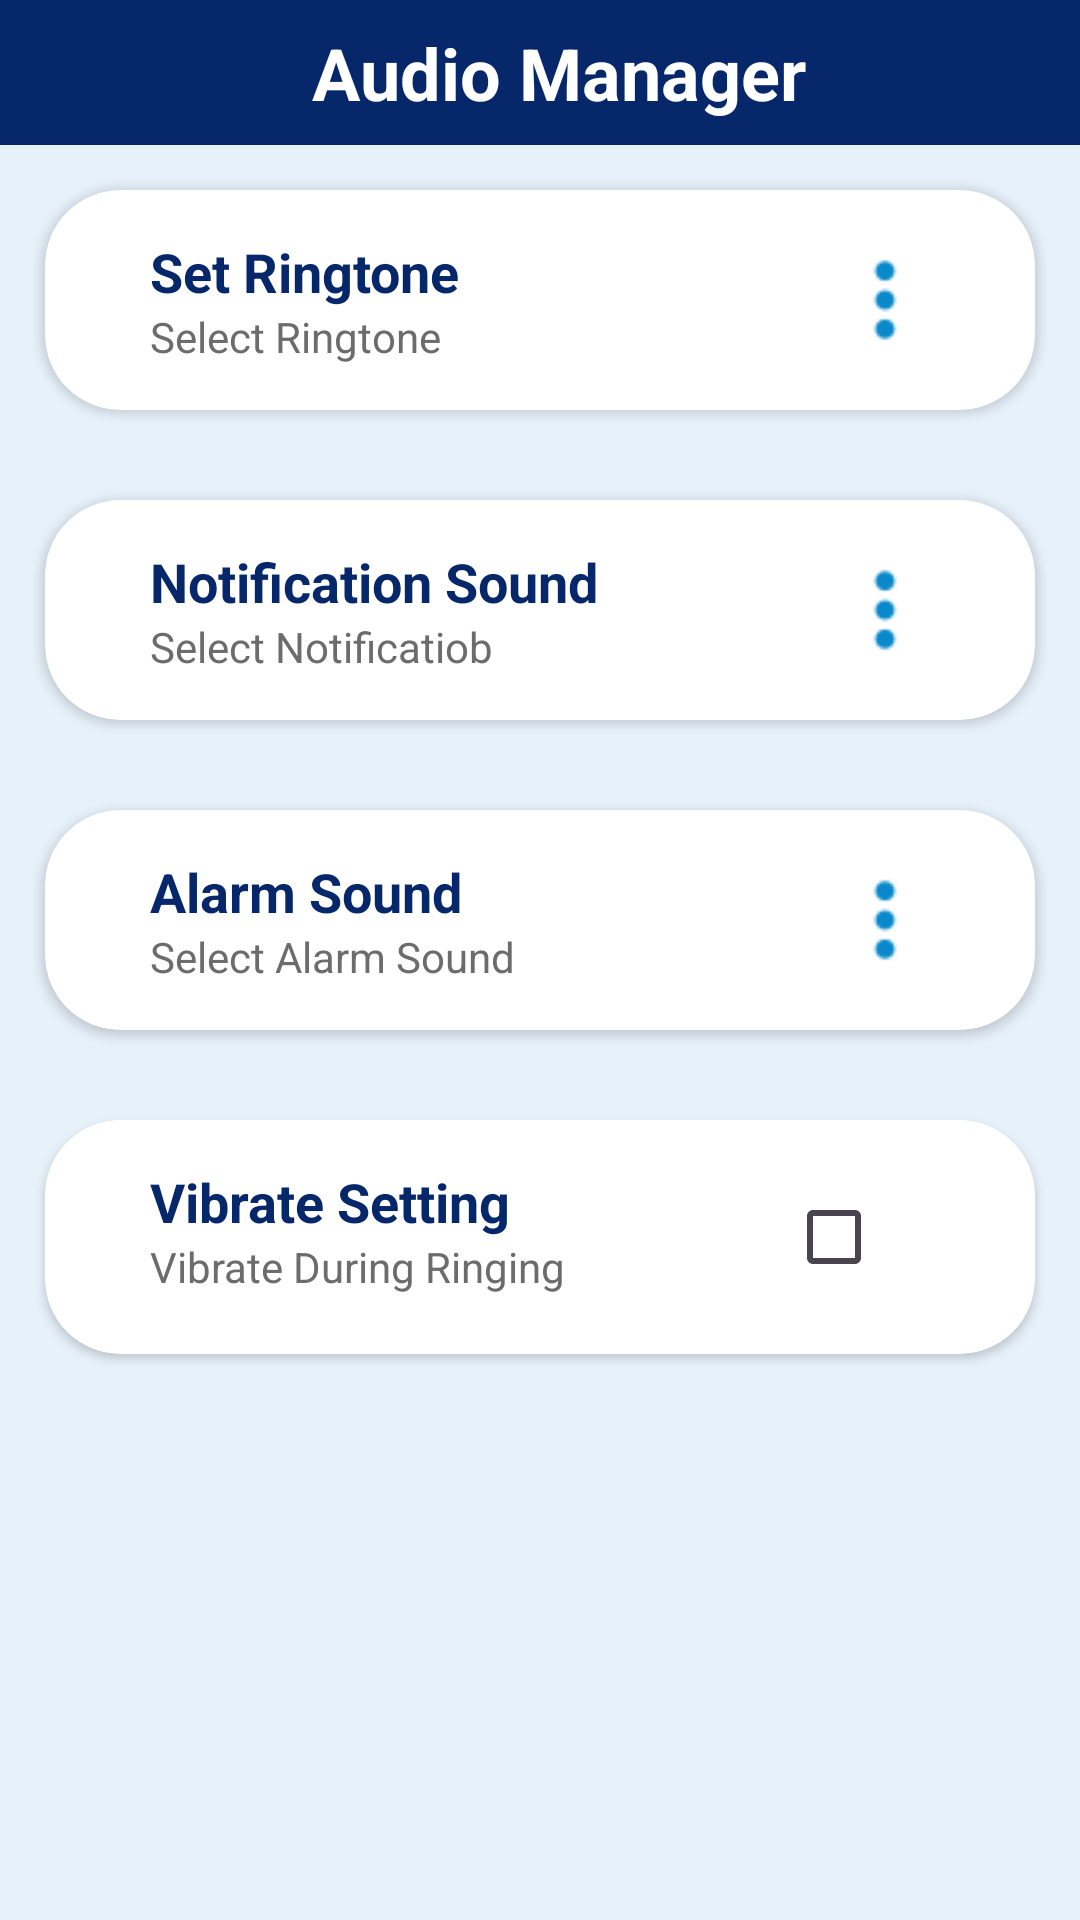

Icons on this 1080 × 1920 Android screen, each with its box as (x1, y1, x2, y2):
option menu: (873, 260, 897, 340), (873, 570, 897, 650), (873, 880, 897, 960)
